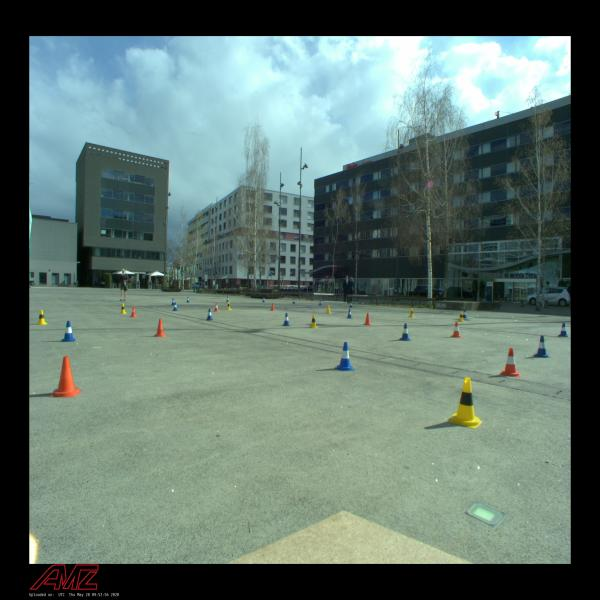blue_cone: (334, 342, 356, 372), (533, 335, 551, 358), (61, 321, 76, 342), (398, 323, 412, 341), (558, 323, 568, 337), (282, 313, 292, 326), (206, 308, 214, 320), (347, 308, 353, 318), (172, 302, 178, 311), (463, 309, 467, 318), (172, 298, 176, 305), (186, 296, 190, 302), (292, 298, 296, 304), (349, 302, 353, 308), (262, 297, 266, 302), (226, 296, 229, 302), (319, 300, 322, 305)
orange_cone: (49, 355, 83, 398), (500, 347, 521, 377), (155, 319, 167, 337), (451, 322, 462, 337), (363, 313, 372, 326), (130, 306, 138, 317), (270, 303, 276, 311), (214, 303, 219, 312)
yellow_cone: (448, 376, 482, 428), (37, 310, 48, 324), (309, 314, 319, 329), (408, 308, 415, 318), (120, 303, 126, 314), (458, 312, 465, 321), (326, 305, 332, 314), (226, 302, 232, 310)
